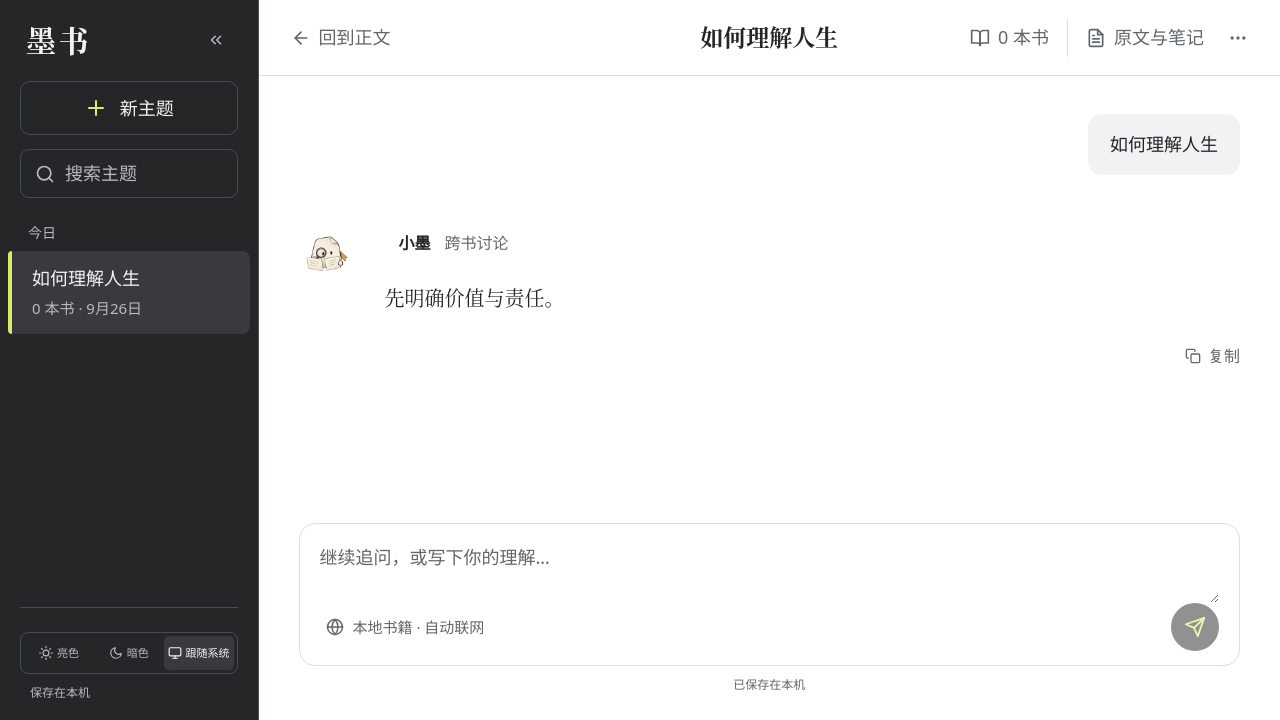
Test: 主题会话本地可靠性 › does not leave after an older save finishes if a newer question is in flight
Type "第一追问" into the text box labelled "继续追问" at [769, 572], box [320,542,1219,603]
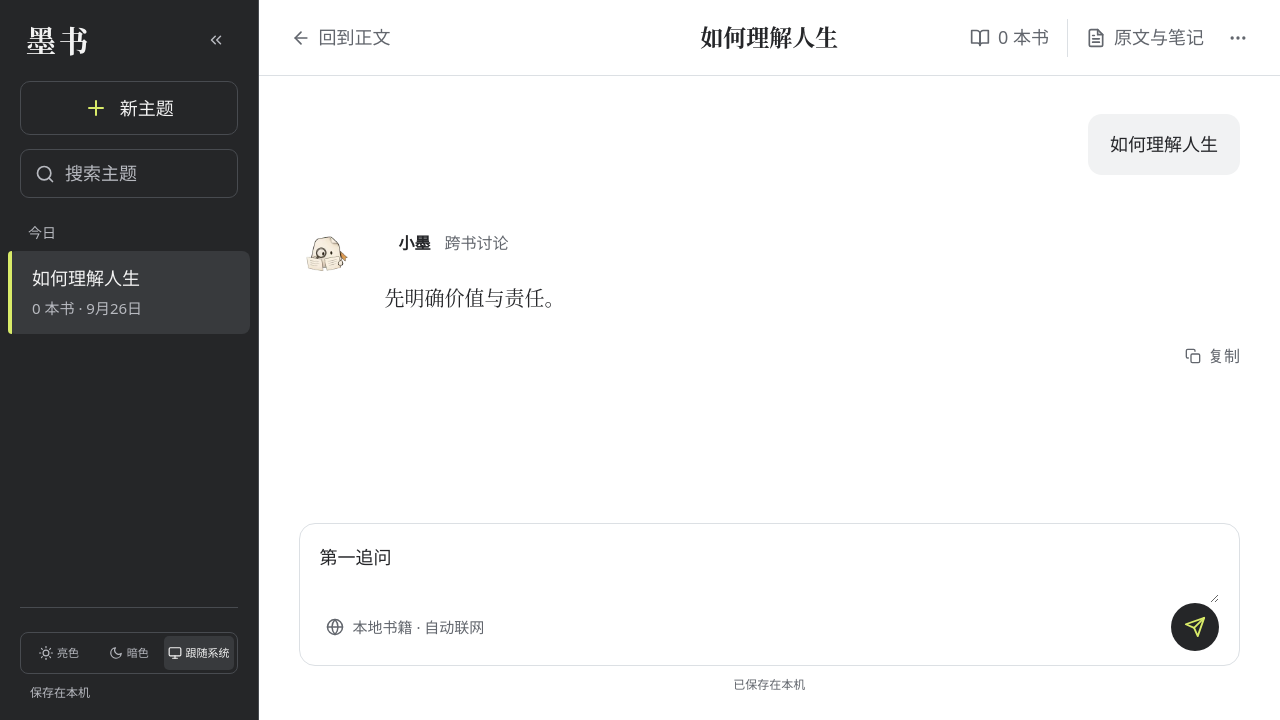
Submit the form named "继续追问", box [298,523,1240,666]
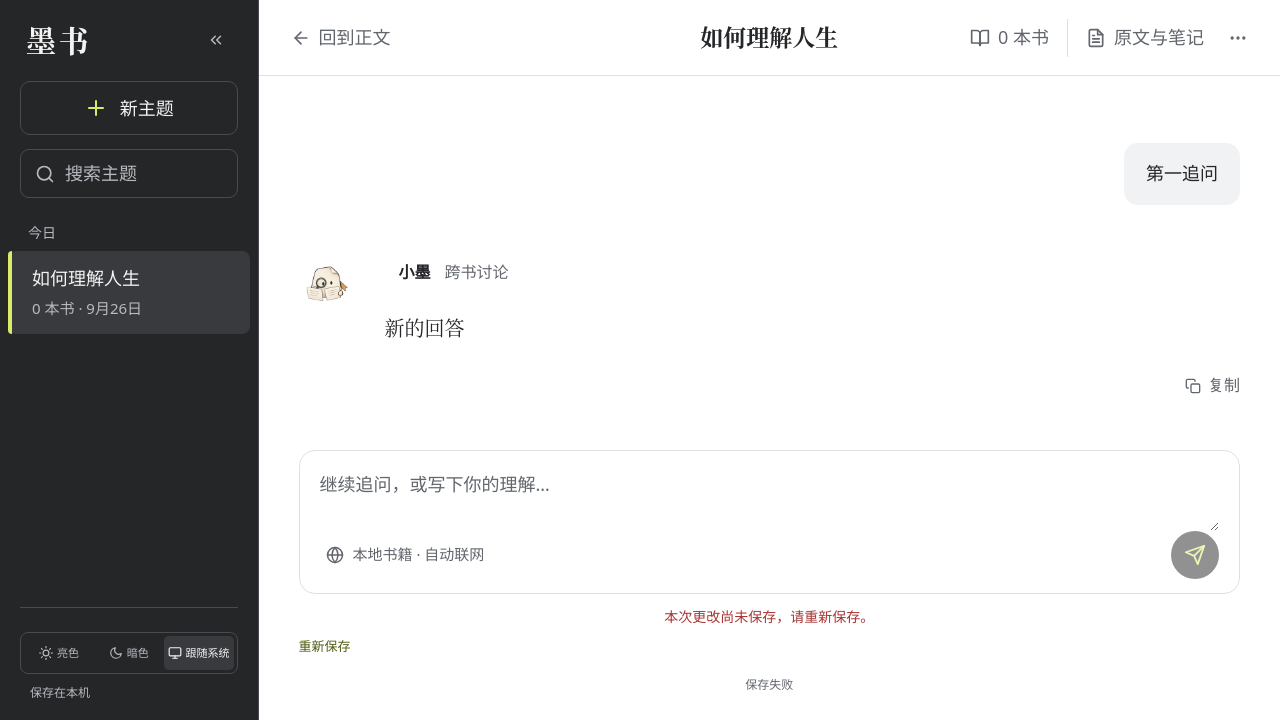
Now the button "重新保存" is shown, box [298,626,350,666]
Click the button "回到正文" at [340, 38], box [284,18,396,56]
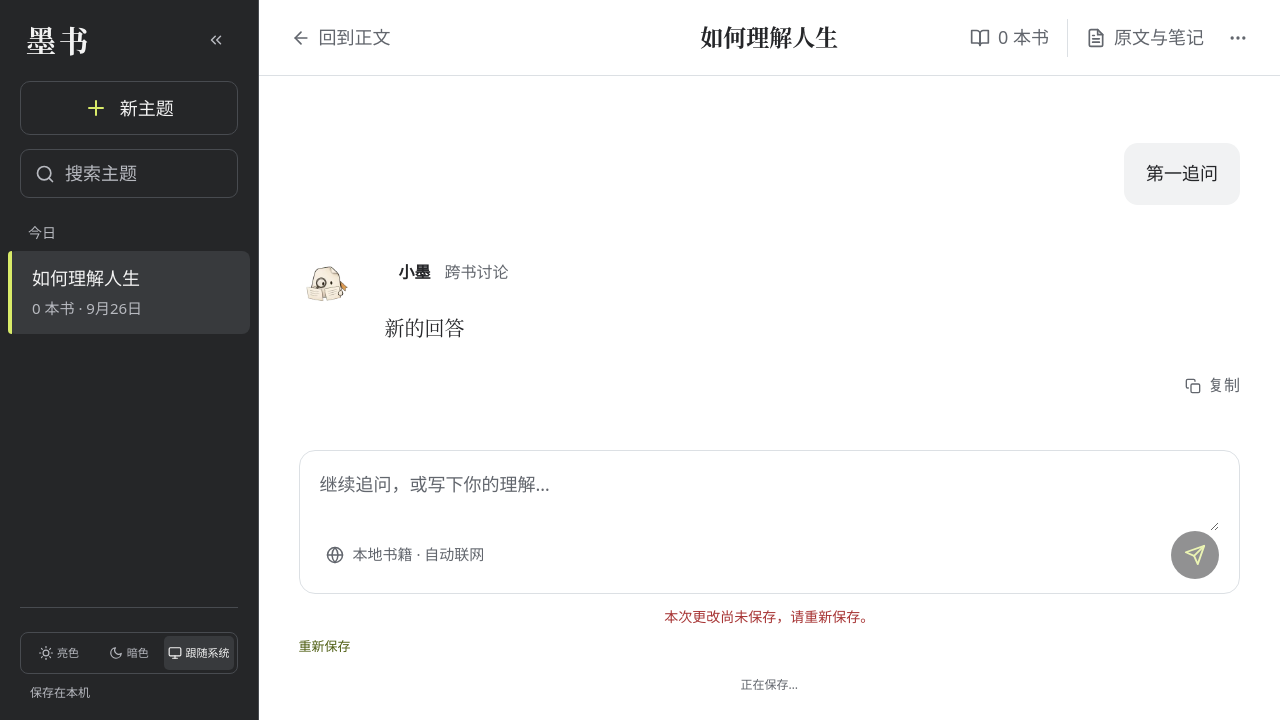
Type "第二追问" into the text box labelled "继续追问" at [769, 500], box [320,469,1219,530]
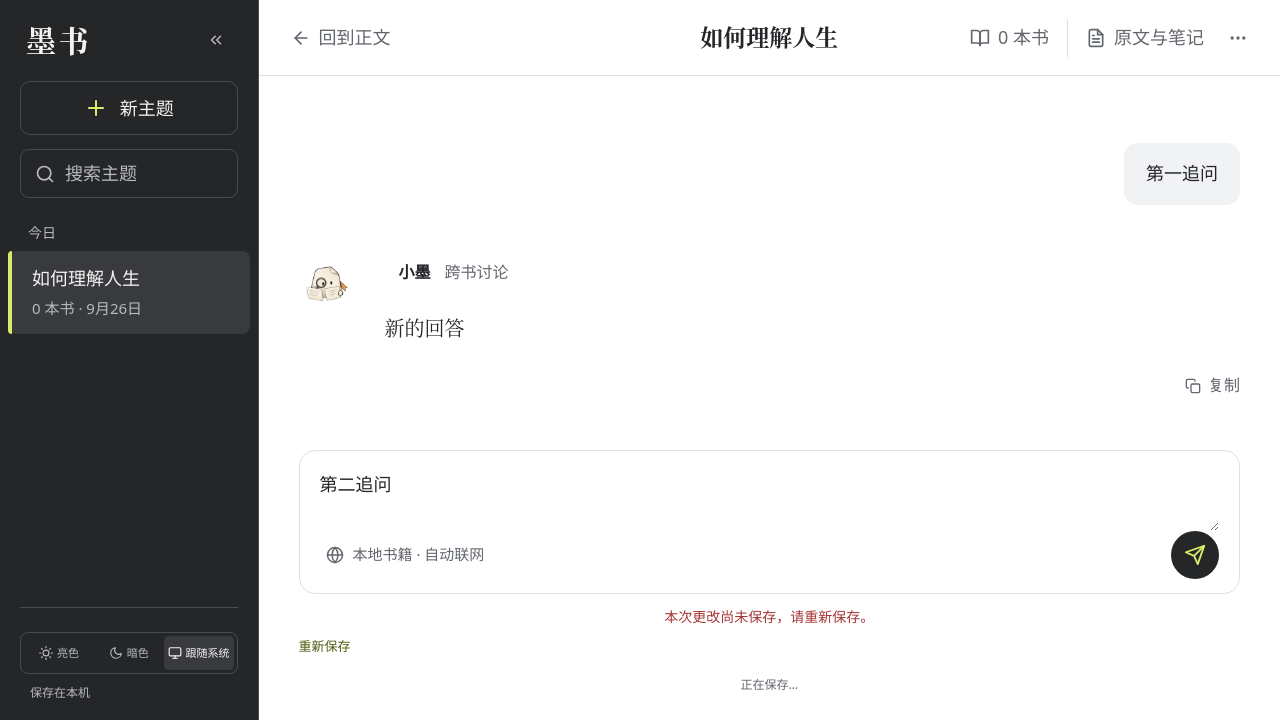
Submit the form named "继续追问", box [298,450,1240,594]
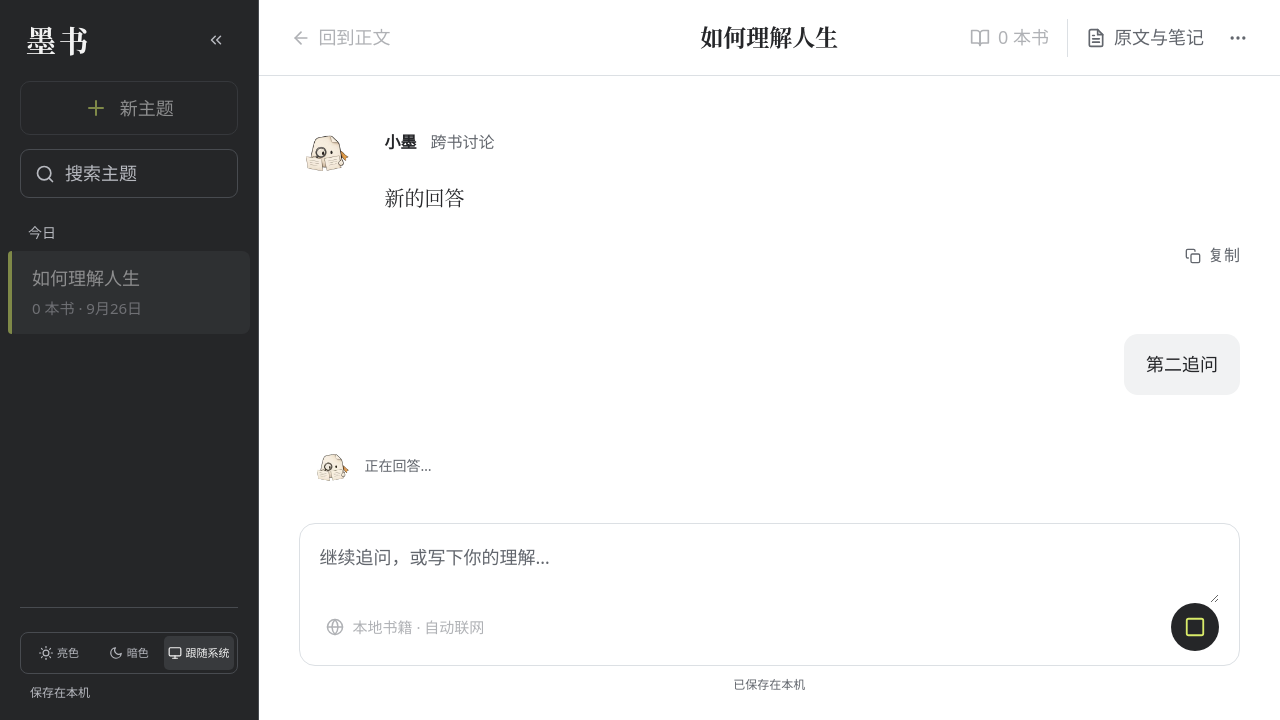
Click the button named "停止回答" at [1195, 627], box [1171,603,1219,651]
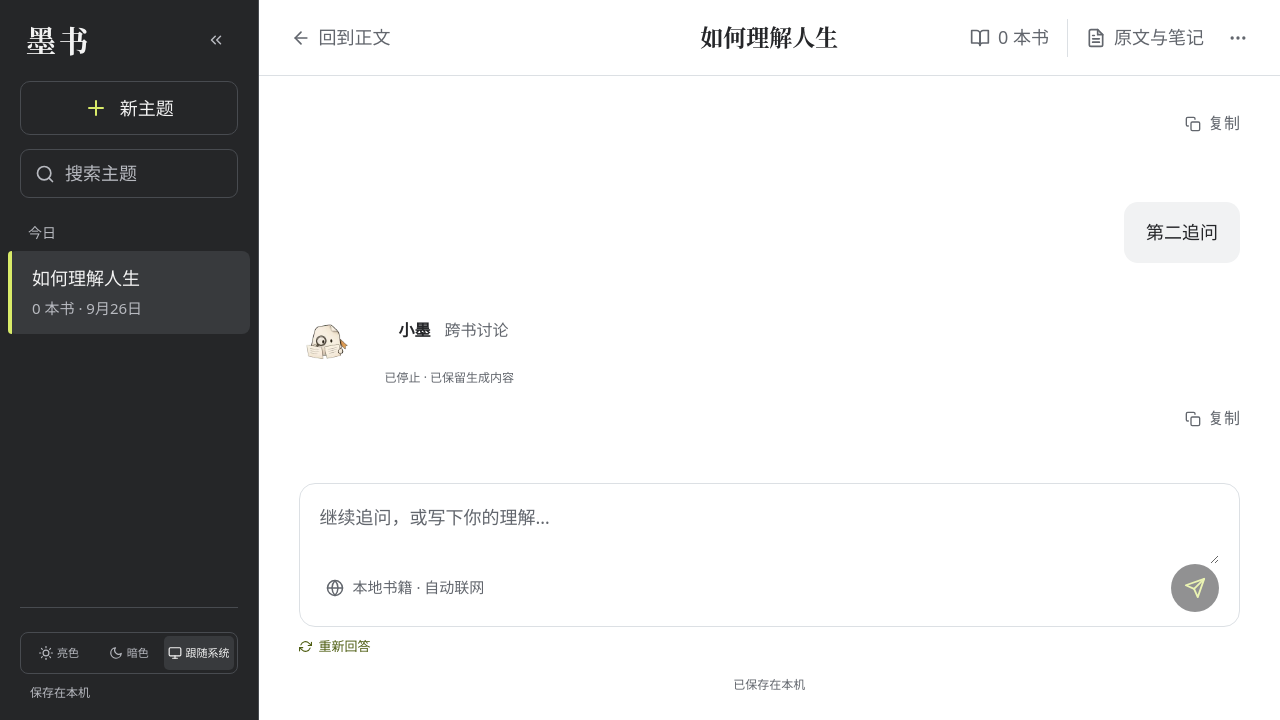
Now the button "重新回答" is shown, box [298,626,370,666]
